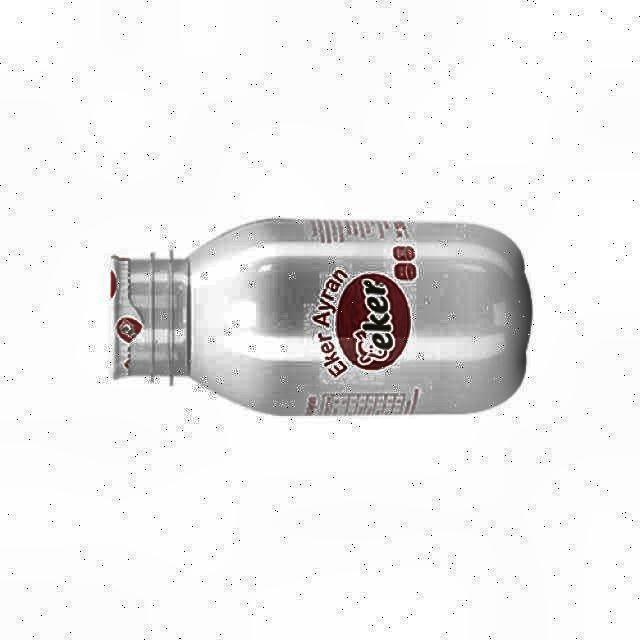plastic: (111, 219, 531, 416)
